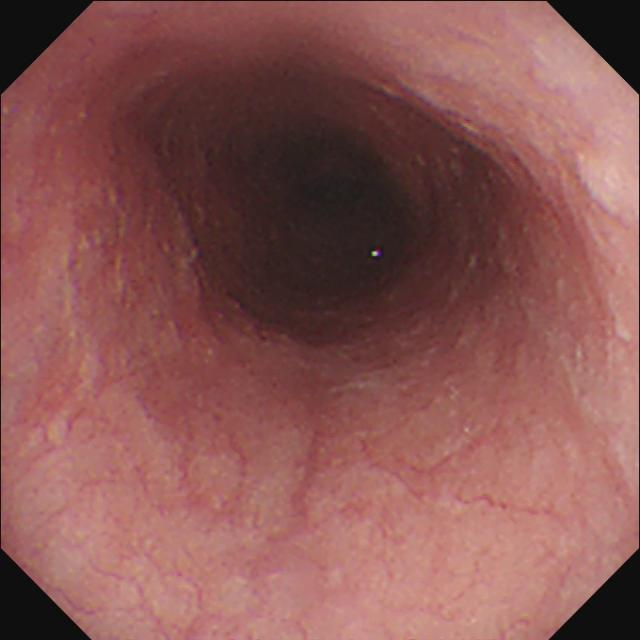E: (192, 107, 422, 328)
